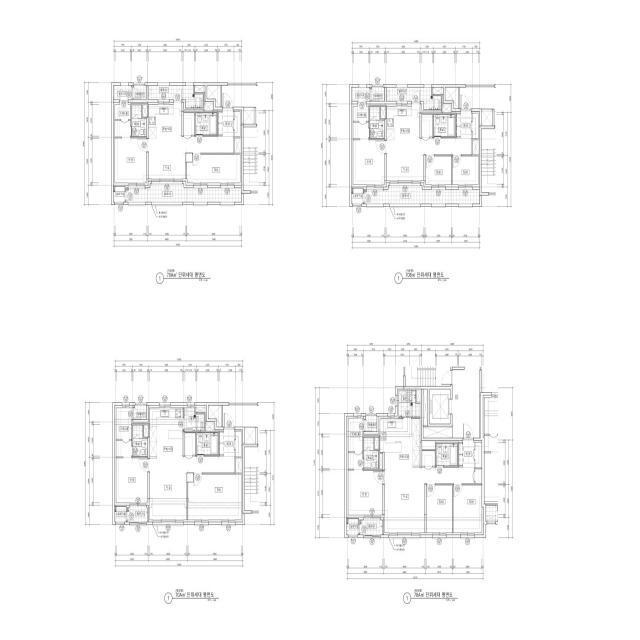space_balconi: (126, 184, 242, 202), (364, 186, 480, 204), (386, 87, 441, 110), (148, 86, 203, 108), (399, 391, 420, 417), (184, 408, 204, 431), (360, 518, 382, 535), (127, 506, 147, 522), (352, 87, 370, 101), (113, 86, 131, 100)
space_bedroom: (188, 474, 241, 520), (348, 470, 382, 515), (187, 155, 240, 183), (116, 458, 148, 503), (353, 140, 385, 184), (115, 138, 146, 183), (453, 485, 482, 533), (426, 485, 452, 533), (426, 156, 451, 185), (453, 156, 478, 185)
space_dressroom: (116, 408, 132, 457), (348, 418, 363, 469), (353, 104, 369, 139), (115, 102, 130, 137)
space_elevator: (430, 389, 450, 424)
space_elevator_hall: (452, 370, 480, 438)
space_front: (218, 109, 240, 137), (219, 429, 241, 457), (456, 111, 472, 138), (459, 439, 474, 467)
space_kitchen: (380, 418, 420, 466), (150, 408, 183, 457), (148, 102, 182, 137), (387, 104, 420, 138)
space_living_room: (384, 466, 474, 533), (150, 457, 235, 520), (387, 138, 472, 181), (148, 137, 233, 179)
space_other: (423, 427, 452, 438), (208, 406, 222, 427), (445, 87, 458, 109), (207, 86, 220, 107), (422, 114, 433, 137), (185, 433, 196, 455), (184, 113, 194, 135), (364, 416, 377, 432), (422, 451, 435, 466), (481, 109, 492, 126), (475, 442, 482, 468), (371, 87, 384, 101), (133, 86, 146, 100), (133, 405, 146, 419), (423, 389, 428, 425), (243, 108, 254, 124), (245, 427, 255, 444), (473, 113, 478, 138), (475, 469, 482, 484), (236, 458, 242, 473), (235, 138, 240, 153), (473, 140, 478, 155), (442, 105, 451, 113), (205, 423, 214, 431), (204, 103, 213, 111), (433, 87, 443, 94), (195, 86, 205, 93), (196, 407, 205, 413), (375, 437, 379, 449), (381, 107, 385, 119), (144, 425, 148, 437), (143, 105, 147, 117), (416, 391, 420, 402), (380, 454, 382, 469)
space_outdoor_room: (347, 519, 359, 535), (113, 187, 125, 202), (115, 506, 126, 522), (352, 188, 363, 204)
space_toilet: (436, 444, 458, 466), (195, 113, 217, 135), (434, 114, 455, 137), (364, 437, 379, 469), (133, 425, 148, 457), (197, 433, 218, 455), (132, 105, 146, 137), (370, 107, 384, 138)
